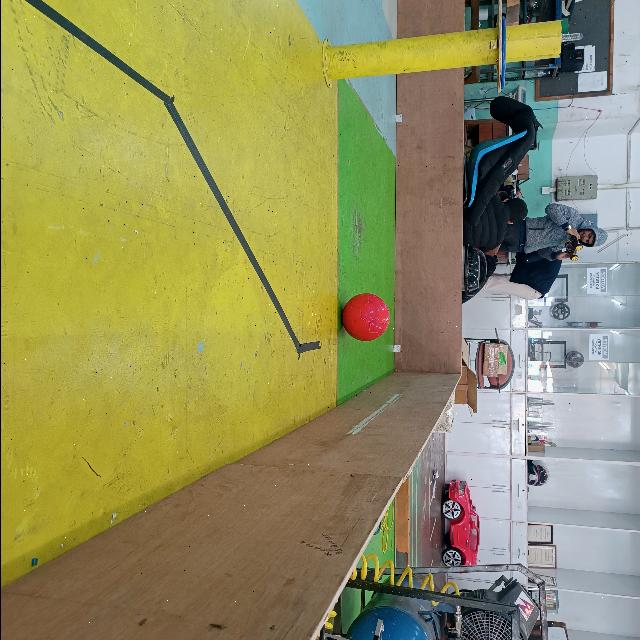R: (340, 292, 390, 342)
